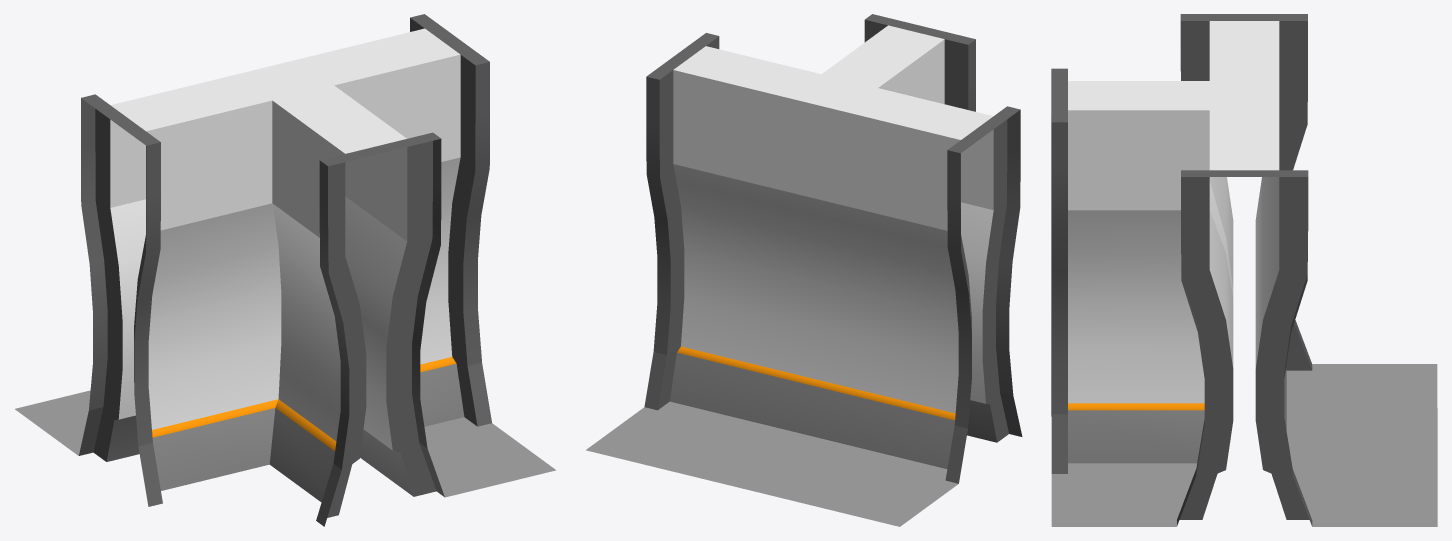
The model's file is SM_InteriorWall_T_02.fbx.
The picture shows the model from 3 angles, left to right: view 1: azimuth 30°, elevation 25°; view 2: azimuth 150°, elevation 25°; view 3: azimuth 270°, elevation 25°; orthographic projection. The views are drawn at different scales.
Visible parts, largest first — view 1: SM_InteriorWall_T_02; view 2: SM_InteriorWall_T_02; view 3: SM_InteriorWall_T_02.
Boxes of the visible parts, x1,y1,x2,y2 form: SM_InteriorWall_T_02: (15,14,555,526); SM_InteriorWall_T_02: (586,14,1022,526); SM_InteriorWall_T_02: (1051,14,1437,526).
Size of the model in its own units: 200 by 200 by 200.
Materials: 1 (1 with a texture image).
